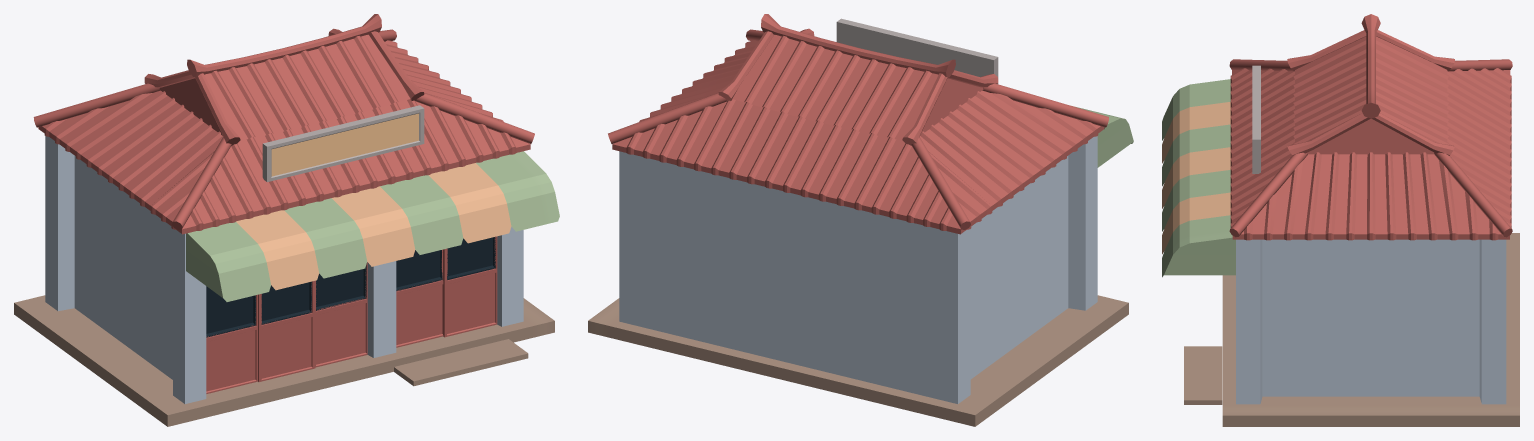
Rendered from Countryhouse001.fbx.
The picture shows the model from 3 angles, left to right: view 1: azimuth 30°, elevation 25°; view 2: azimuth 150°, elevation 25°; view 3: azimuth 270°, elevation 25°; orthographic projection. The views are drawn at different scales.
Visible parts, largest first — view 1: Countryhouse001; view 2: Countryhouse001; view 3: Countryhouse001.
Boxes of the visible parts, bbox=[...] form: Countryhouse001: bbox=[14, 14, 559, 426]; Countryhouse001: bbox=[588, 14, 1133, 426]; Countryhouse001: bbox=[1162, 14, 1519, 426].
Bounding box in the file's own units: 160 × 132 × 113.
